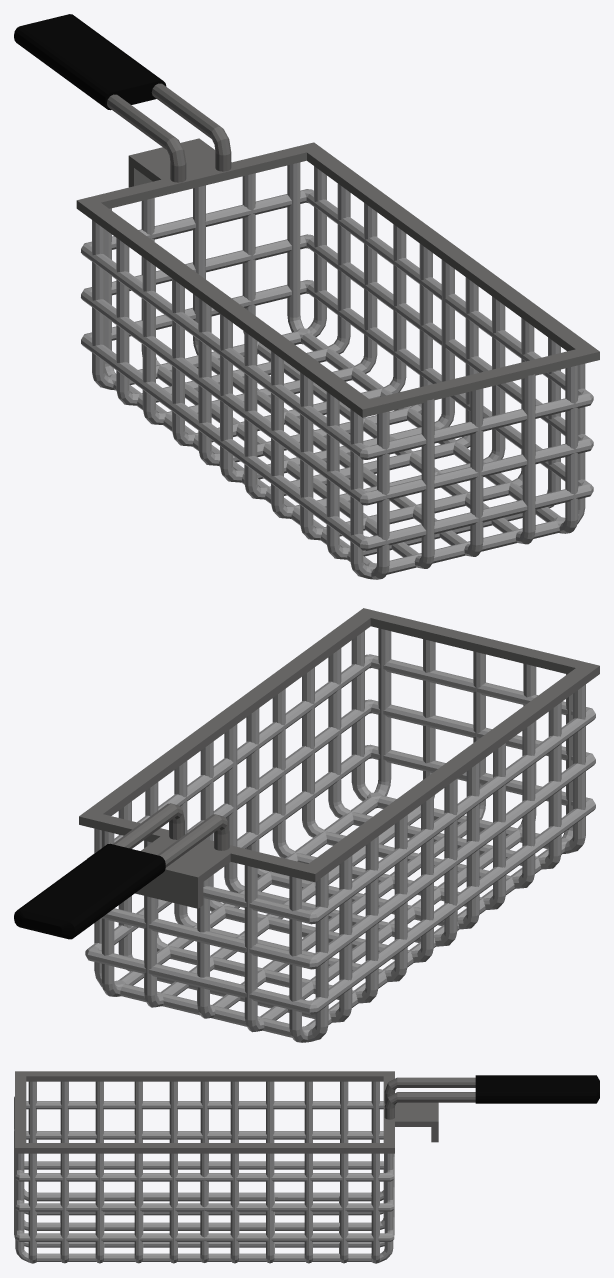
File: _ryer_Inner.fbx
3 views of the same model, one above another, from view 1: azimuth 30°, elevation 25°; view 2: azimuth 150°, elevation 25°; view 3: azimuth 270°, elevation 25° (orthographic). The views are drawn at different scales.
Parts seen in each view (by area): view 1: Cylinder.022; view 2: Cylinder.022; view 3: Cylinder.022.
Boxes of the visible parts, x1=… form: Cylinder.022: x1=14, y1=14, x2=599, y2=579; Cylinder.022: x1=14, y1=608, x2=599, y2=1042; Cylinder.022: x1=14, y1=1071, x2=599, y2=1263.
Bounding box in the file's own units: 23.72 × 21.34 × 76.35.
